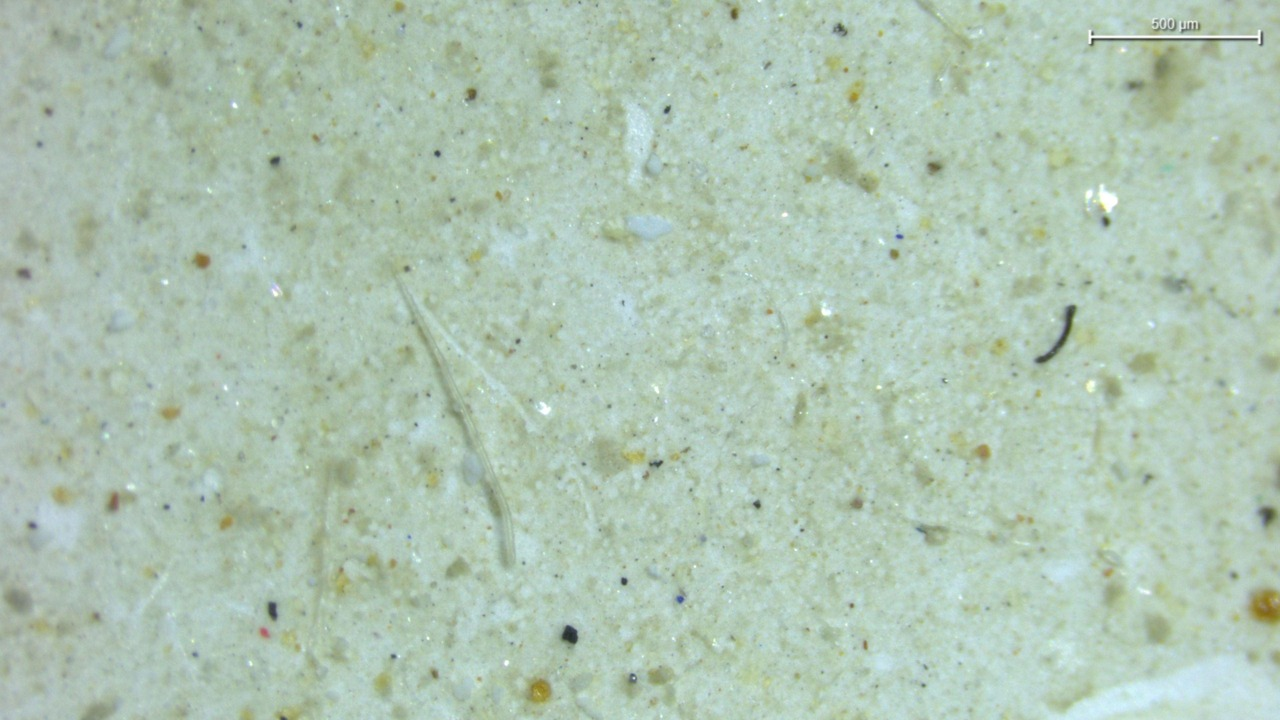microplastic_fragment: (625, 215, 672, 239), (462, 454, 483, 485), (646, 153, 663, 176)
